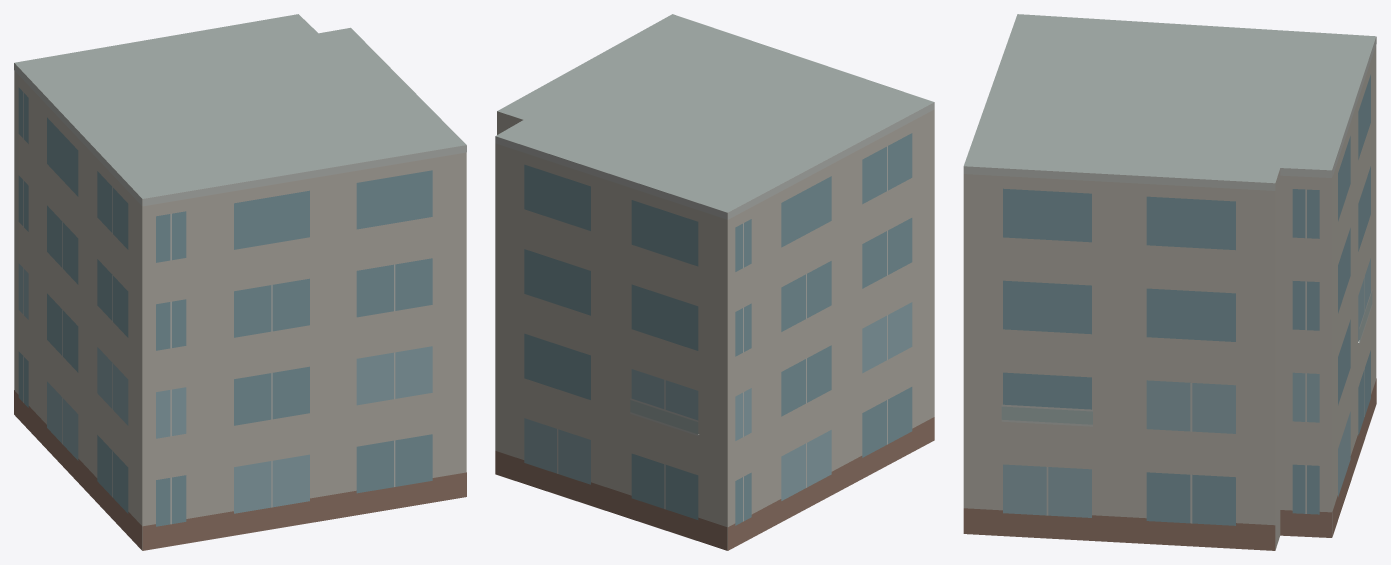
The model's file is survey-upis-32798050.glb.
3 renders of one model, left to right at view 1: azimuth 30°, elevation 25°; view 2: azimuth 150°, elevation 25°; view 3: azimuth 270°, elevation 25°, orthographic. The views are drawn at different scales.
Parts seen in each view (by area): view 1: survey-upis-32798050.tmp; view 2: survey-upis-32798050.tmp; view 3: survey-upis-32798050.tmp.
Part boxes in pixels (x1,y1,x2,y2): survey-upis-32798050.tmp: (14, 14, 466, 550); survey-upis-32798050.tmp: (495, 14, 934, 550); survey-upis-32798050.tmp: (963, 14, 1376, 550).
Size of the model in its own units: 11.46 by 11.6 by 11.82.
